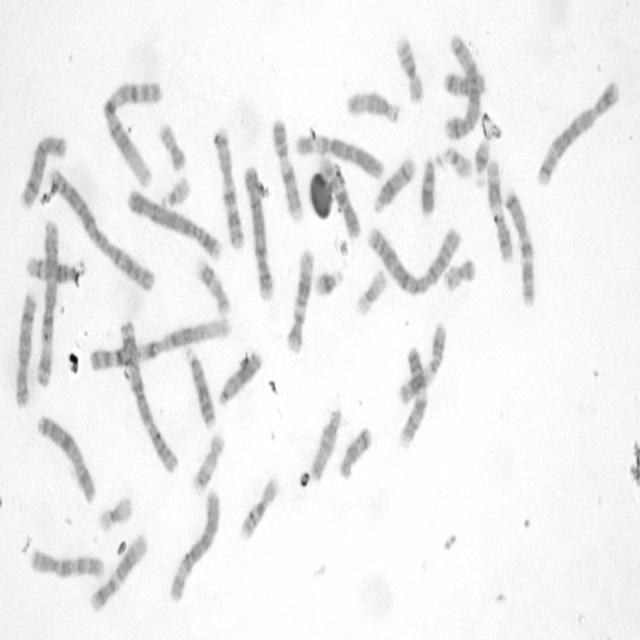A1: (84, 313, 232, 372), (99, 74, 163, 191)
A2: (46, 165, 156, 293), (364, 220, 463, 298)
A3: (119, 320, 179, 475), (32, 214, 61, 389)
B4: (124, 185, 224, 262), (242, 162, 275, 302)
B5: (534, 76, 620, 188), (441, 30, 483, 141)
C10: (320, 158, 361, 242), (26, 544, 107, 582)
C11: (395, 317, 449, 407), (485, 156, 514, 264)
C12: (87, 528, 148, 613), (284, 243, 314, 356)
C6: (166, 486, 222, 605), (292, 130, 385, 181)
C7: (211, 126, 246, 251), (502, 187, 538, 308)
C8: (17, 130, 68, 211), (12, 287, 38, 410)
C9: (394, 342, 429, 452), (270, 114, 304, 223)
D13: (215, 344, 264, 410), (183, 343, 217, 430)
D14: (371, 153, 416, 216), (22, 251, 86, 285)
D15: (308, 402, 343, 483), (344, 86, 402, 125)
E16: (237, 473, 280, 542), (393, 32, 425, 106)
E17: (189, 429, 226, 495), (196, 255, 230, 317)
E18: (337, 422, 373, 481), (441, 67, 486, 99)
F19: (353, 265, 388, 319), (96, 492, 133, 534)
F20: (156, 117, 187, 174), (440, 254, 477, 295)
G21: (312, 264, 345, 298), (471, 135, 491, 188)
G22: (440, 143, 474, 182), (158, 172, 192, 210)
X: (34, 411, 98, 506)
Y: (418, 152, 437, 216)
